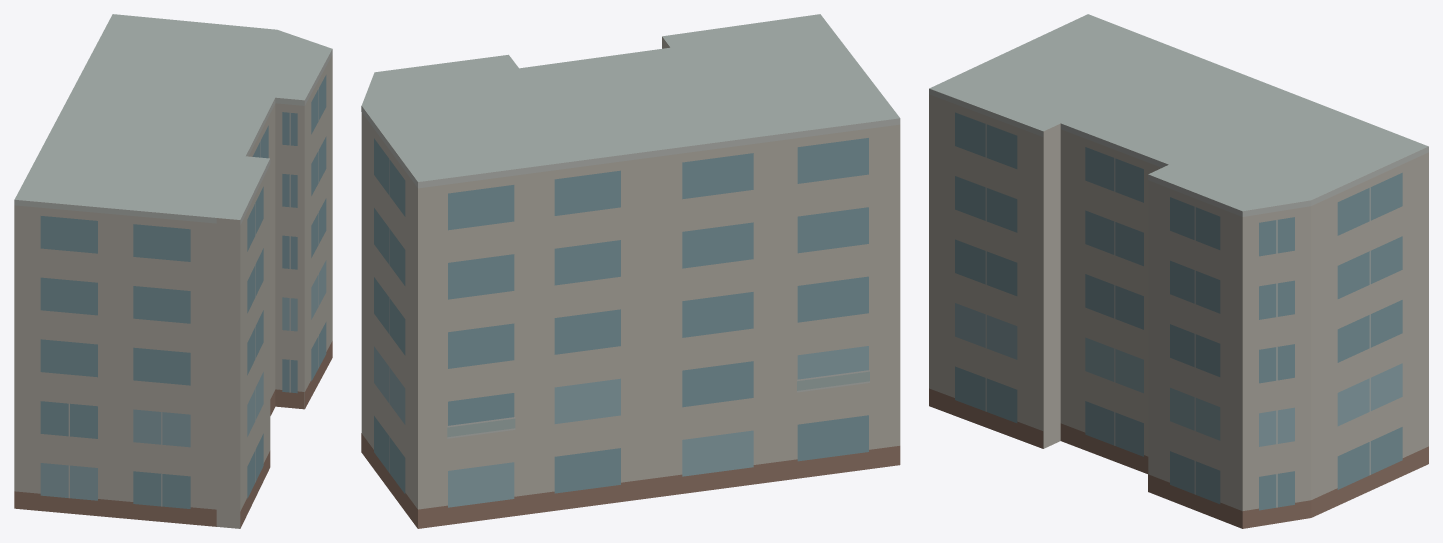
Rendered from survey-upis-32674542.glb.
3 renders of one model, left to right at view 1: azimuth 30°, elevation 25°; view 2: azimuth 150°, elevation 25°; view 3: azimuth 270°, elevation 25°, orthographic. The views are drawn at different scales.
Visible parts, largest first — view 1: survey-upis-32674542.tmp; view 2: survey-upis-32674542.tmp; view 3: survey-upis-32674542.tmp.
Part boxes in pixels (left/top/right/bottom): survey-upis-32674542.tmp: left=14, top=14, right=332, bottom=528; survey-upis-32674542.tmp: left=361, top=14, right=900, bottom=528; survey-upis-32674542.tmp: left=929, top=14, right=1428, bottom=528.
Bounding box in the file's own units: 17.86 × 13.4 × 19.12.
